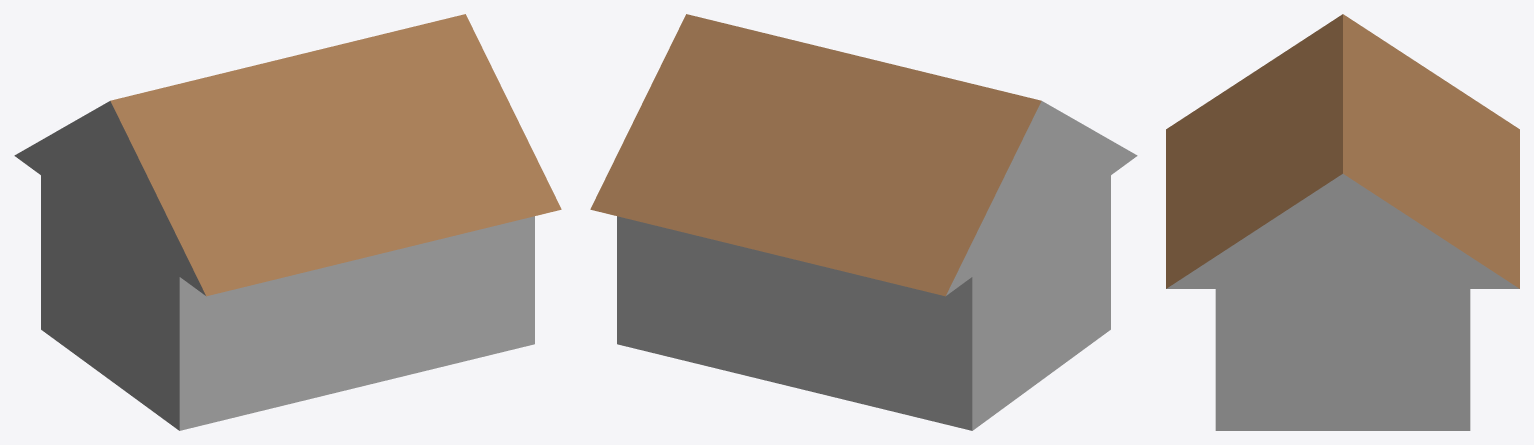
The model's file is House.fbx.
The picture shows the model from 3 angles, left to right: view 1: azimuth 30°, elevation 25°; view 2: azimuth 150°, elevation 25°; view 3: azimuth 270°, elevation 25°; orthographic projection. The views are drawn at different scales.
Visible parts, largest first — view 1: pCube61; view 2: pCube61; view 3: pCube61.
Boxes of the visible parts, x1,y1,x2,y2 form: pCube61: (14,14,561,430); pCube61: (590,14,1137,430); pCube61: (1166,14,1519,430).
Bounding box in the file's own units: 7.65 × 5.75 × 7.16.
